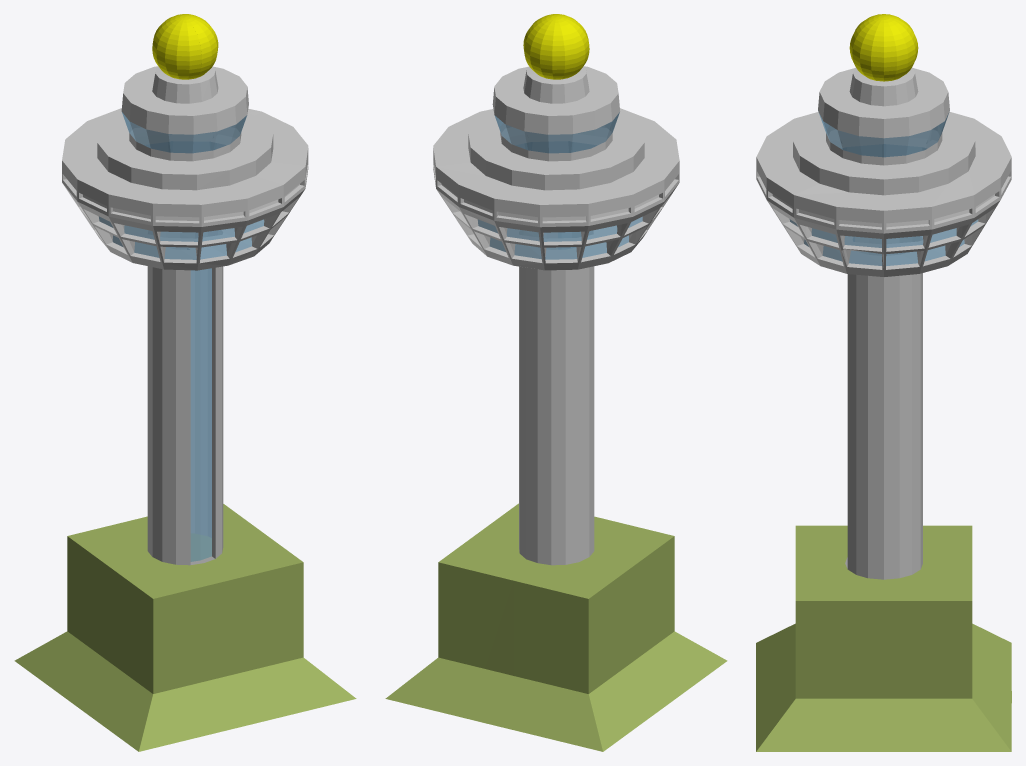
Rendered from trophy_airport.fbx.
3 views of the same model, side by side, from view 1: azimuth 30°, elevation 25°; view 2: azimuth 150°, elevation 25°; view 3: azimuth 270°, elevation 25° (orthographic). The views are drawn at different scales.
Parts seen in each view (by area): view 1: airport; view 2: airport; view 3: airport.
Boxes of the visible parts, x1,y1,x2,y2 form: airport: (14,14,356,751); airport: (385,14,727,751); airport: (756,14,1011,751).
Bounding box in the file's own units: 2.93 × 8.53 × 2.91.
